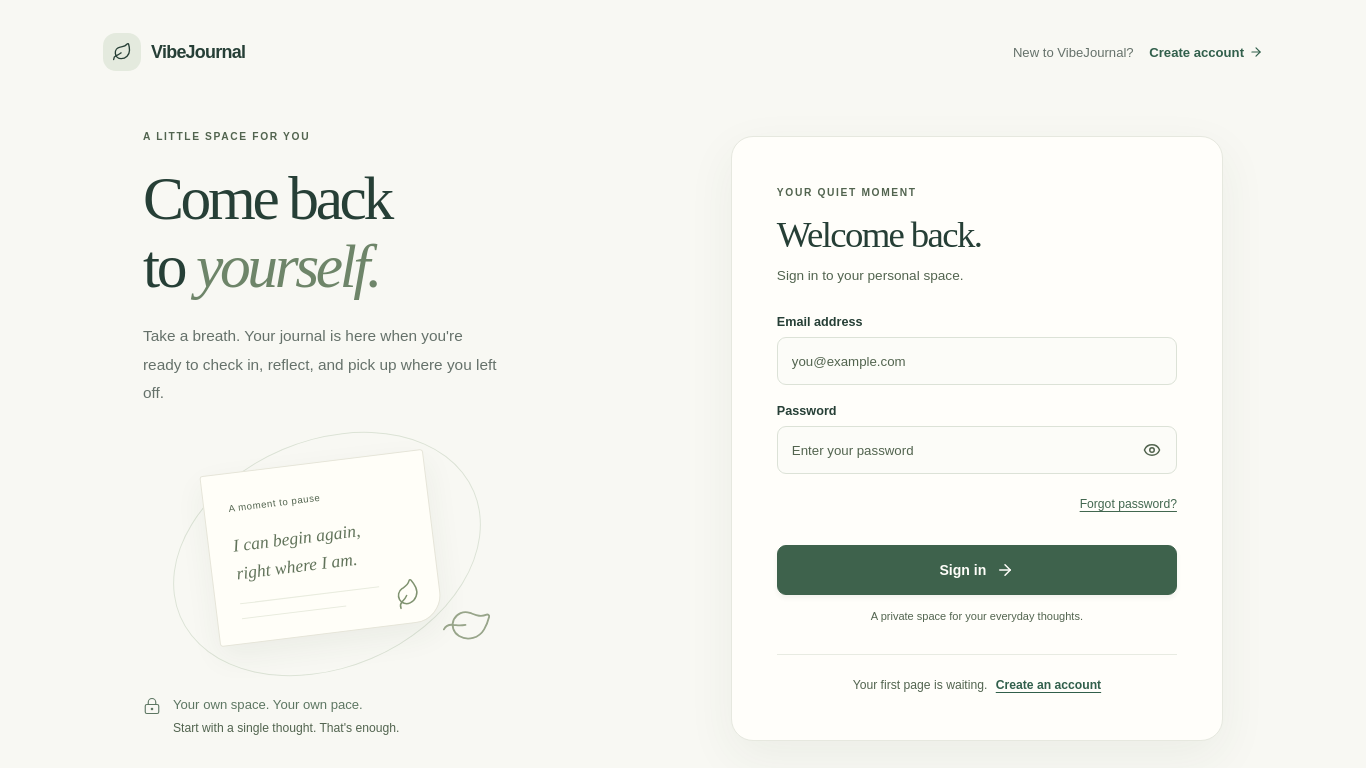
sign-in form › disables submission while waiting and lets the user retry incorrect credentials
Later steps or results of the test are not shown.
Type "someone@example.invalid" into the field labelled "Email address" at (977, 360), box [777,336,1177,384]
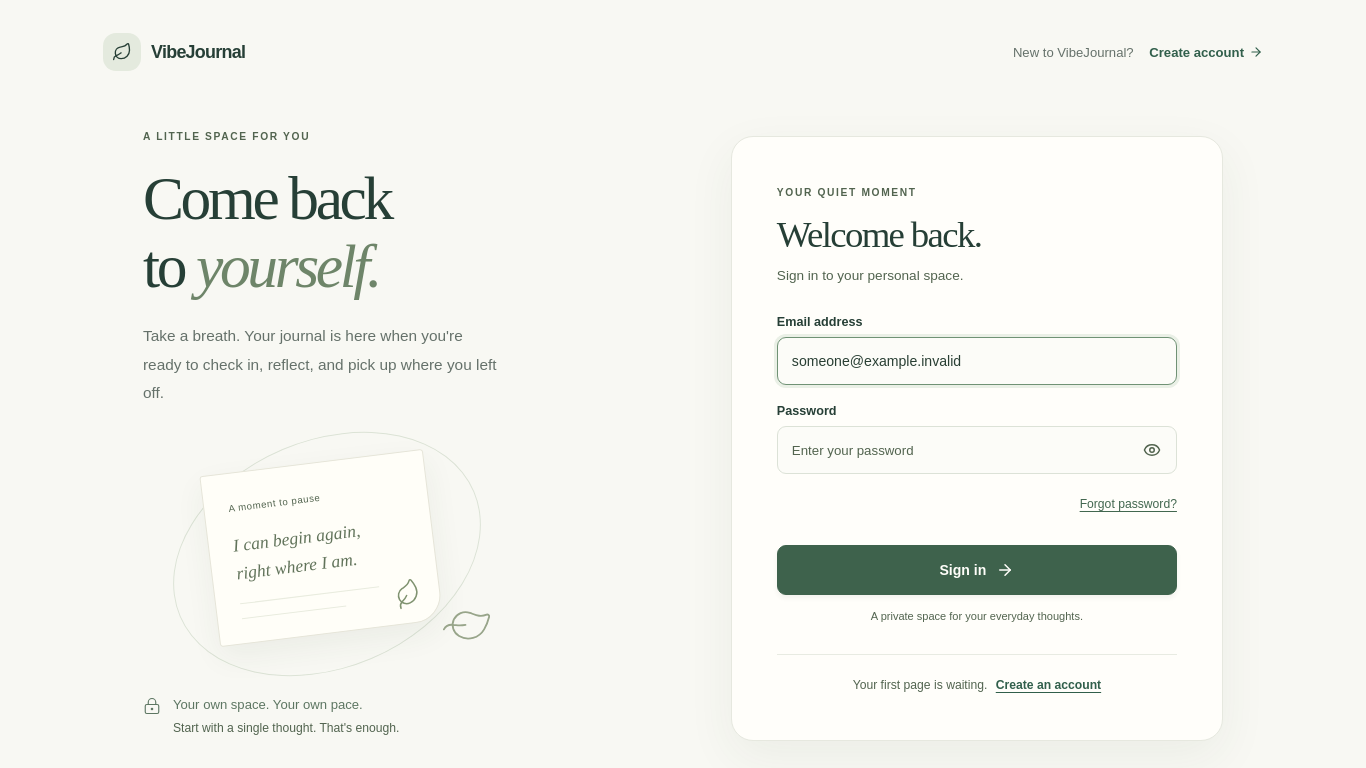
Type "WrongPassword123!" into the password field labelled "Password" at (977, 450), box [777,426,1177,474]
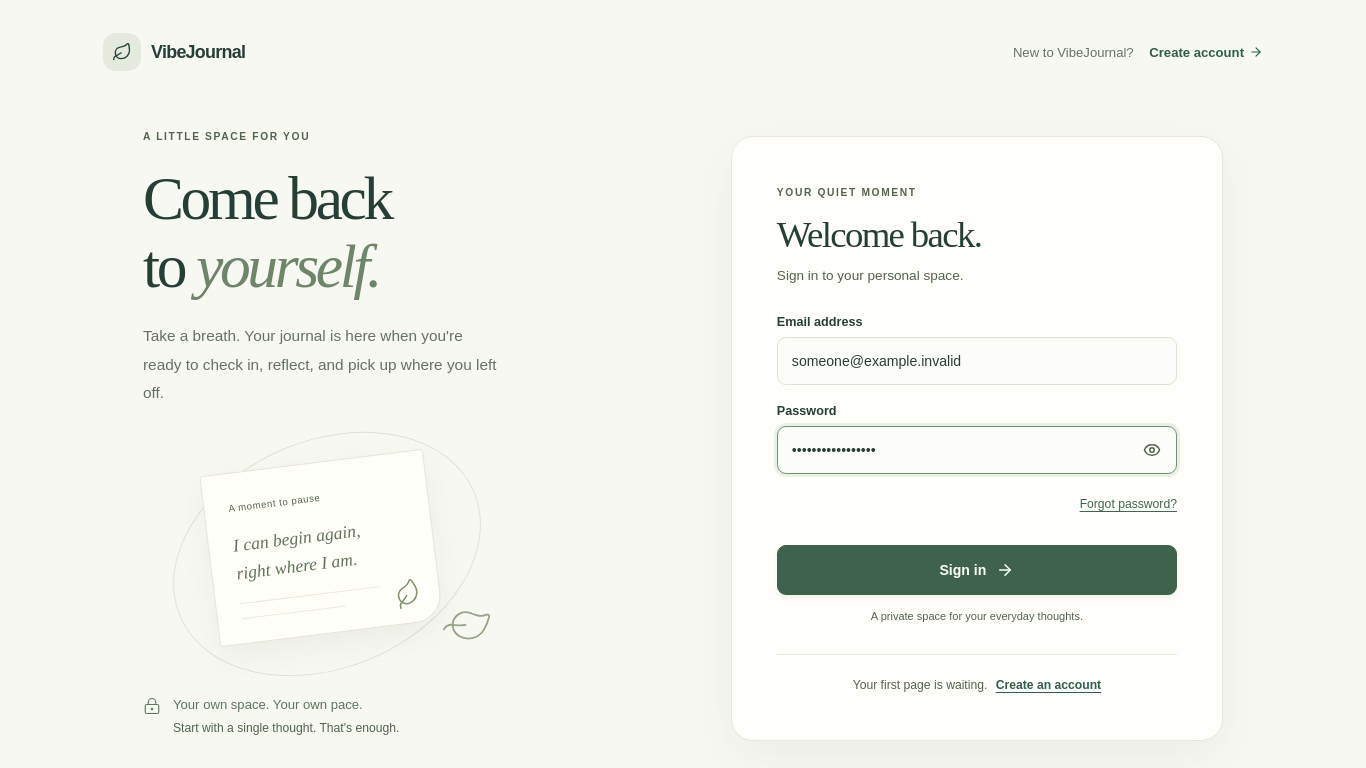
Click the button "Sign in" at (977, 570), box [777,544,1177,594]
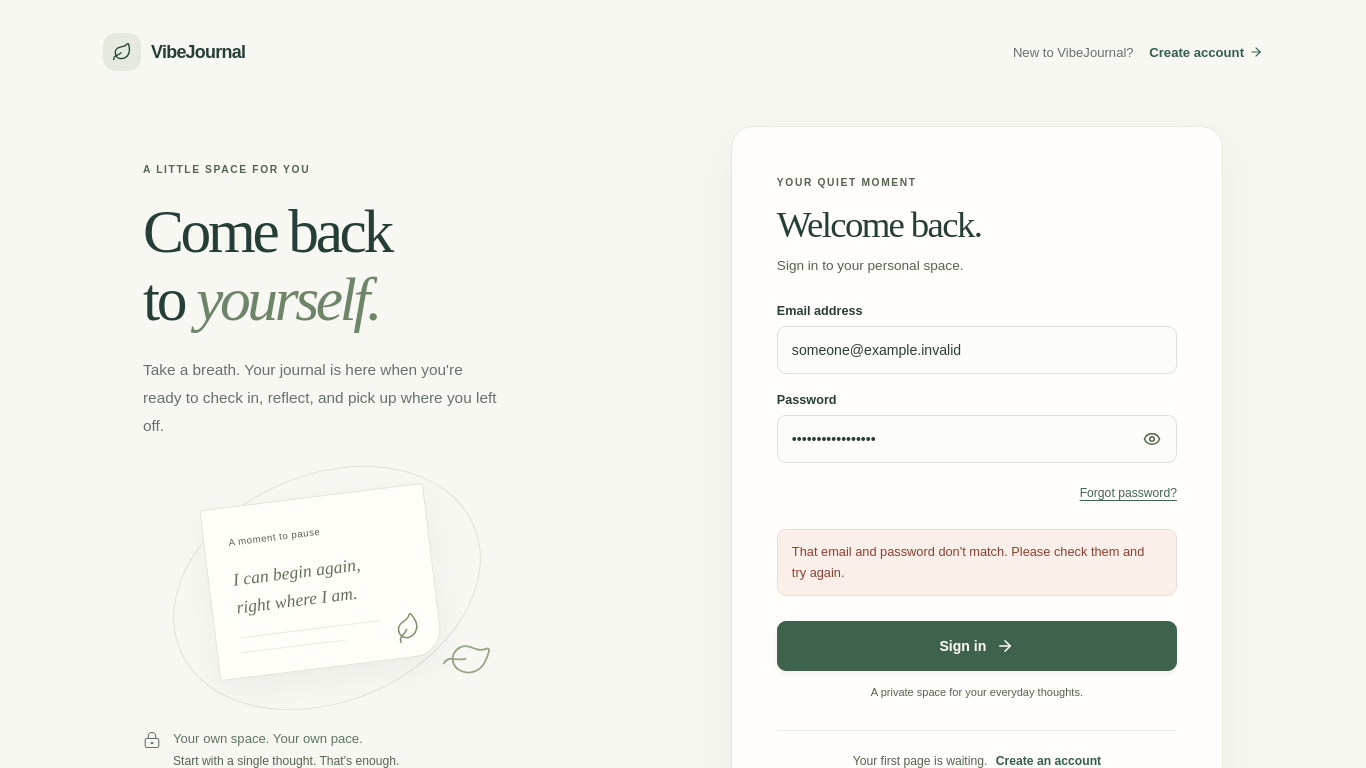
Expected: the button "Sign in" is enabled, [777,621,1177,671]
Expected: the message "That email and password don't match. Please check them and try again." is shown, [777,530,1177,596]
